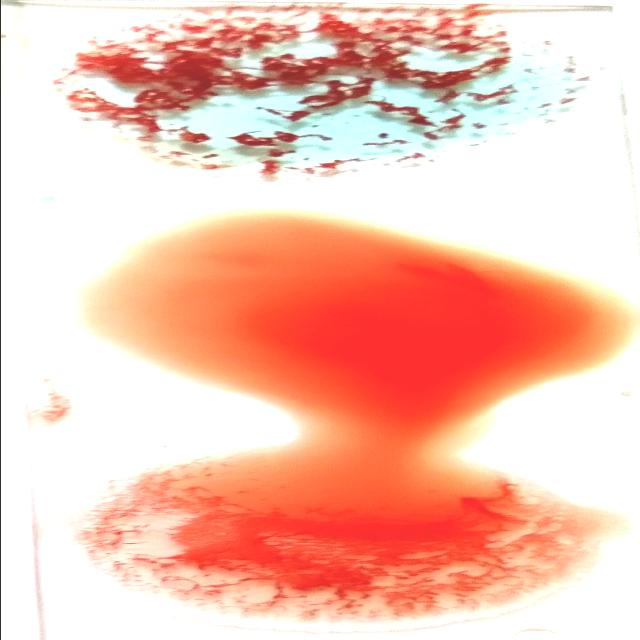A: (44, 12, 602, 168)
D: (83, 506, 587, 612)
